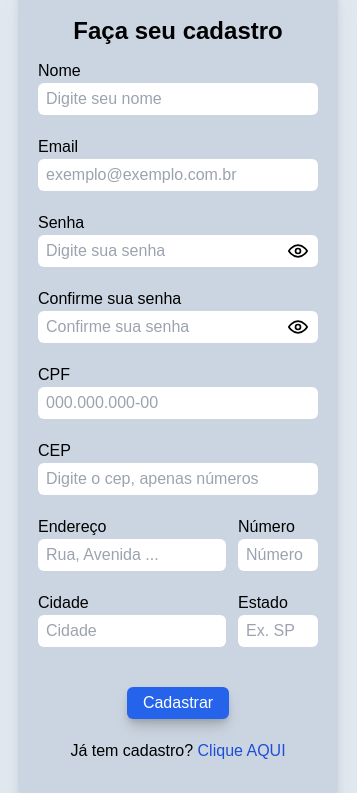
Signup › deve validar campos obrigatórios
Click the button "Cadastrar": coordinates (178, 703) [127, 687, 229, 719]
(page scrolled)
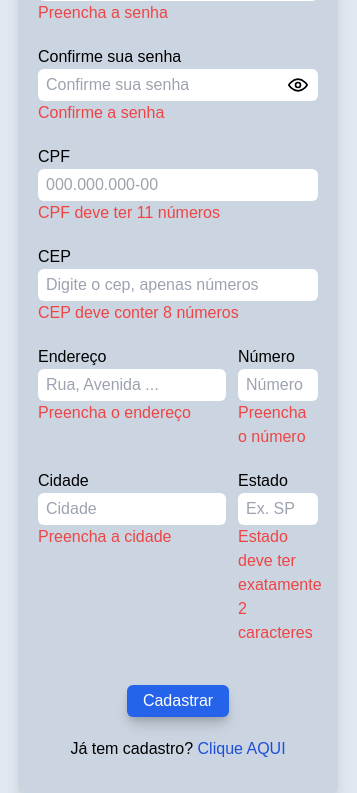
Check: the text "Preencha a senha" is shown, box [38, 4, 168, 21]
Check: the text "Confirme a senha" is shown, box [38, 104, 164, 121]
Check: the text "CPF deve ter 11 números" is shown, box [38, 204, 220, 221]
